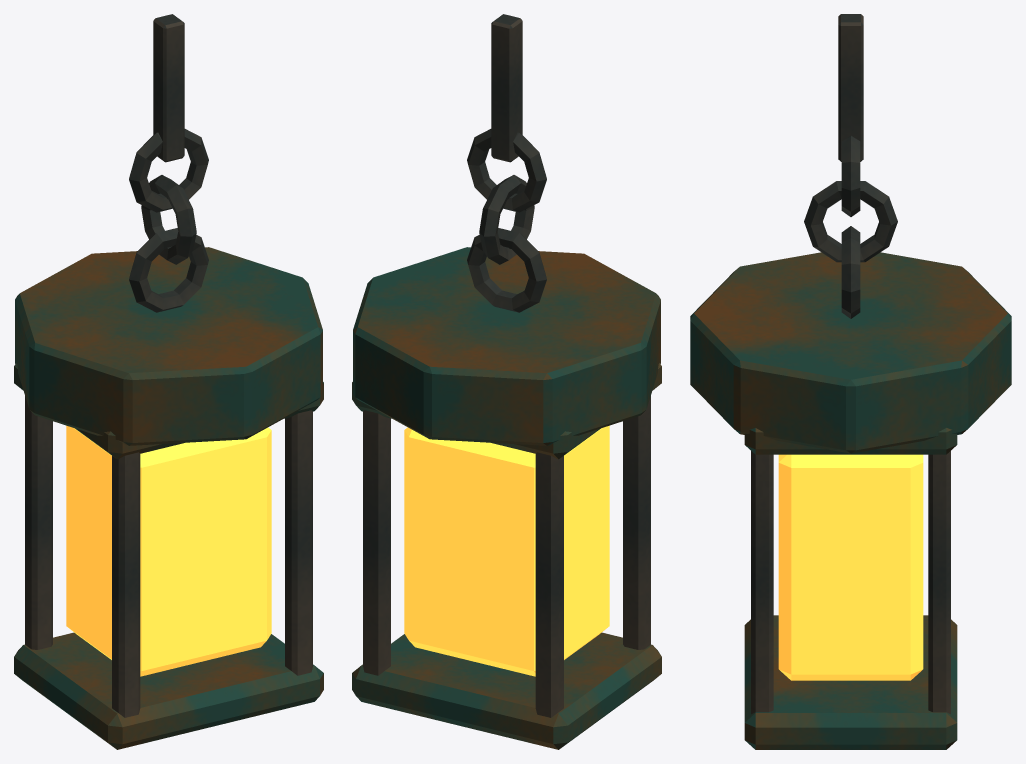
Rendered from hanging-lantern-B74uFaw3.glb.
3 renders of one model, left to right at view 1: azimuth 30°, elevation 25°; view 2: azimuth 150°, elevation 25°; view 3: azimuth 270°, elevation 25°, orthographic.
Parts seen in each view (by area): view 1: hanging-lantern__RV_bronze, hanging-lantern__RV_amber_glass, hanging-lantern__RV_iron; view 2: hanging-lantern__RV_bronze, hanging-lantern__RV_amber_glass, hanging-lantern__RV_iron; view 3: hanging-lantern__RV_bronze, hanging-lantern__RV_amber_glass, hanging-lantern__RV_iron.
Part boxes in pixels (box(x1,y1,x2,y2)): hanging-lantern__RV_bronze: box(14, 247, 323, 749); hanging-lantern__RV_amber_glass: box(66, 425, 271, 676); hanging-lantern__RV_iron: box(25, 14, 312, 717); hanging-lantern__RV_bronze: box(352, 247, 661, 749); hanging-lantern__RV_amber_glass: box(404, 425, 609, 676); hanging-lantern__RV_iron: box(363, 14, 650, 717); hanging-lantern__RV_bronze: box(690, 252, 1011, 749); hanging-lantern__RV_amber_glass: box(778, 454, 923, 680); hanging-lantern__RV_iron: box(751, 14, 950, 714).
Bounding box in the file's own units: 0.3554 × 0.8325 × 0.3554.
Materials: 3 (2 with a texture image).
